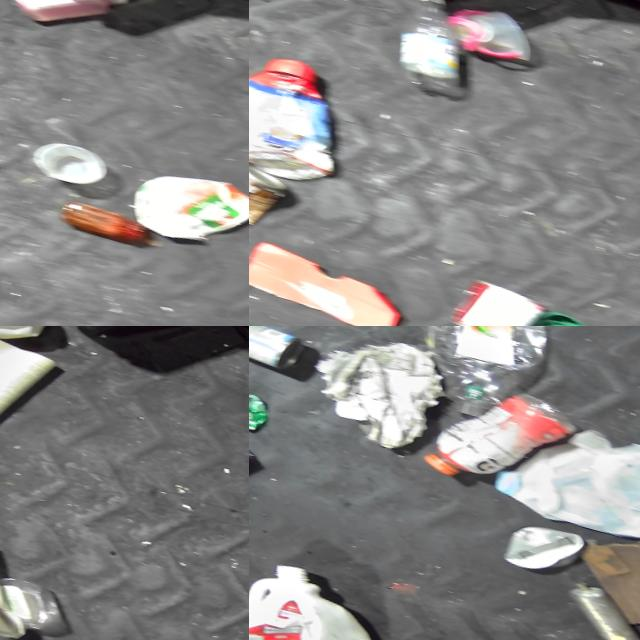can: (496, 514, 591, 582), (249, 144, 291, 236), (249, 326, 307, 375), (249, 375, 274, 432)
milk_jug: (484, 405, 640, 559), (249, 552, 395, 640)
non_white_jug: (249, 39, 365, 191)
plastic_bottle: (402, 326, 555, 429), (384, 0, 468, 91)
